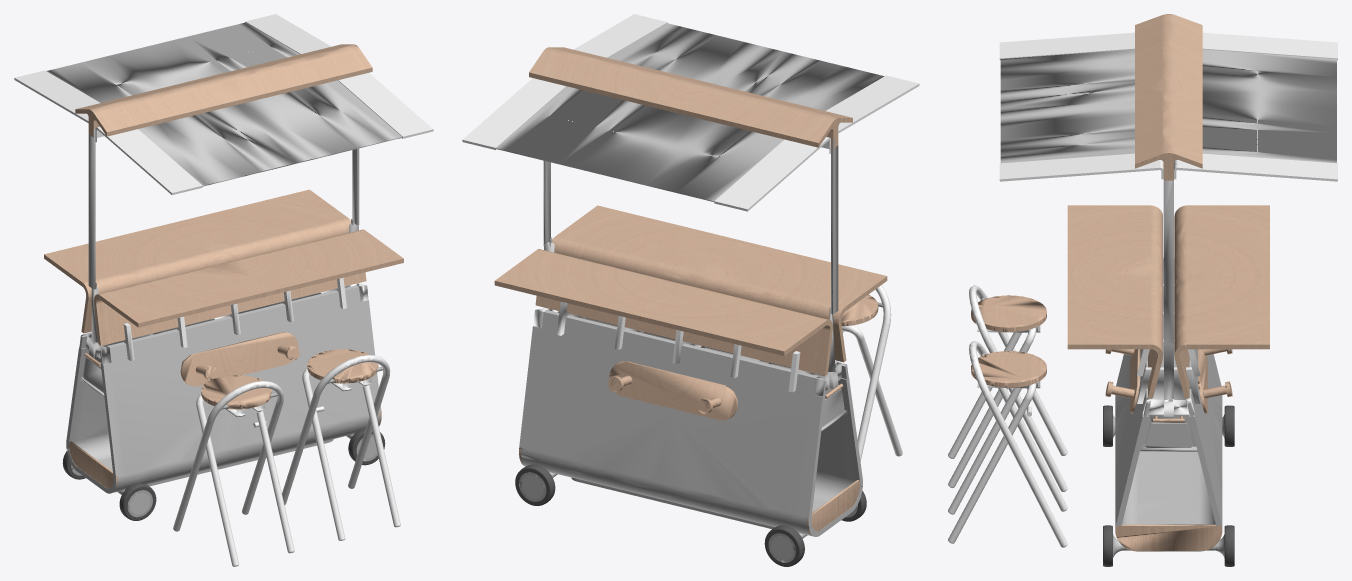
The model's file is DESK-out-.glb.
3 views of the same model, side by side, from view 1: azimuth 30°, elevation 25°; view 2: azimuth 150°, elevation 25°; view 3: azimuth 270°, elevation 25° (orthographic). The views are drawn at different scales.
Visible parts, largest first — view 1: desk-03 (×21); view 2: desk-03 (×20); view 3: desk-03 (×25).
Part boxes in pixels (x1,y1,x2,y2): desk-03 (×21): [14, 14, 433, 566]; desk-03 (×20): [462, 14, 919, 566]; desk-03 (×25): [948, 14, 1337, 566].
Size of the model in its own units: 1.3 by 1.84 by 1.54.
Materials: 46 (15 with a texture image).
